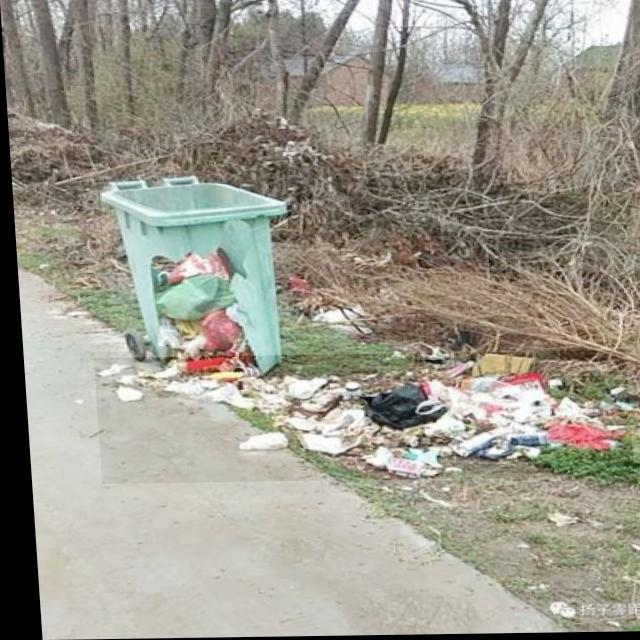garbage: (89, 352, 628, 484)
garbage_bin: (96, 174, 293, 378)
